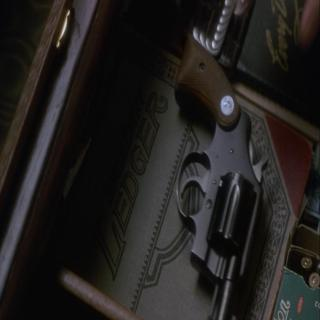gun: (173, 36, 268, 317)
